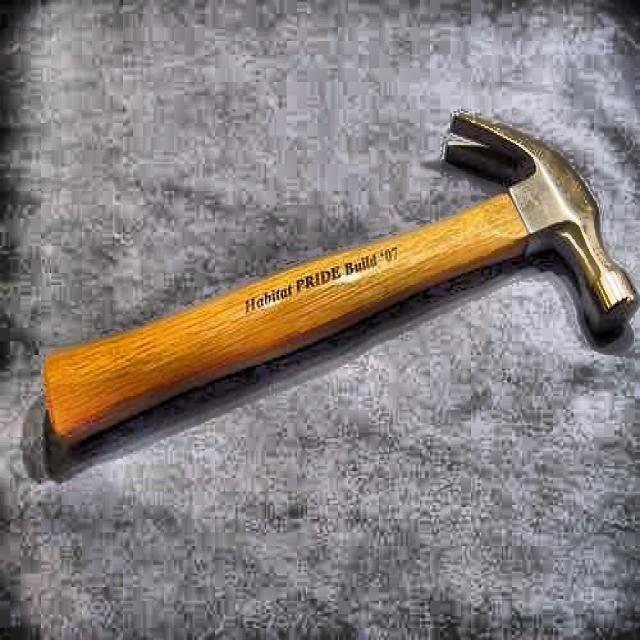hammer: (41, 108, 637, 446)
